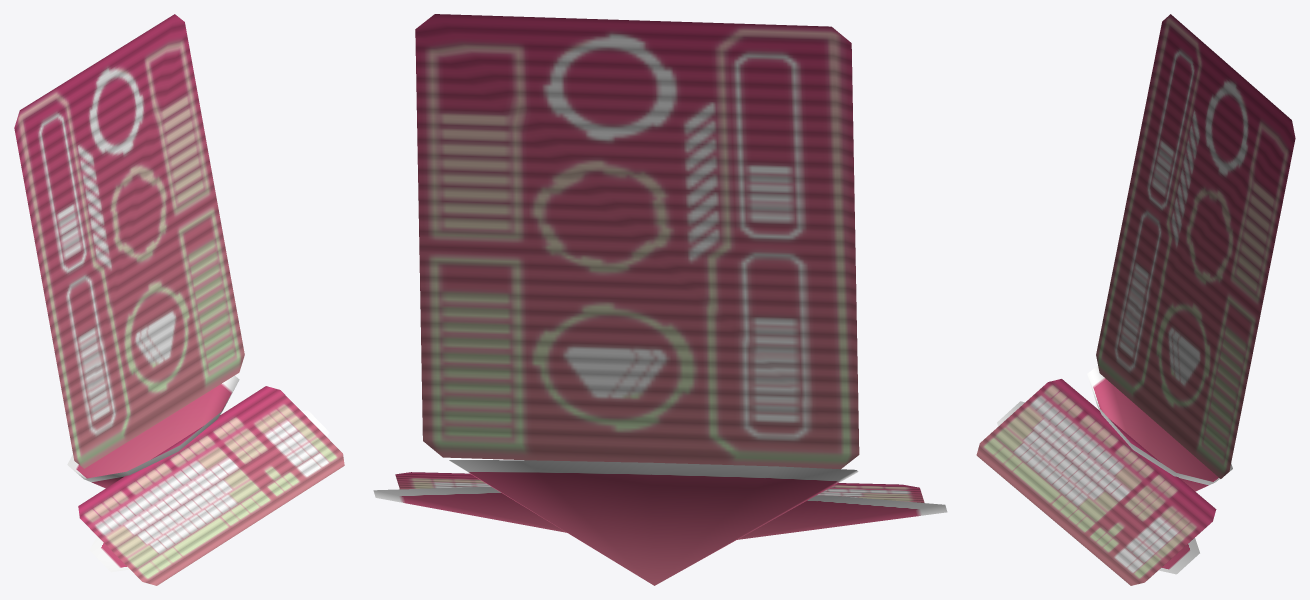
Rendered from Terminal_001_Monitor_002.fbx.
3 views of the same model, side by side, from view 1: azimuth 30°, elevation 25°; view 2: azimuth 150°, elevation 25°; view 3: azimuth 270°, elevation 25° (orthographic). The views are drawn at different scales.
Visible parts, largest first — view 1: Terminal_001_Monitor_002; view 2: Terminal_001_Monitor_002; view 3: Terminal_001_Monitor_002.
Part boxes in pixels (left/top/right/bottom): Terminal_001_Monitor_002: left=14, top=14, right=344, bottom=585; Terminal_001_Monitor_002: left=373, top=14, right=947, bottom=585; Terminal_001_Monitor_002: left=976, top=14, right=1295, bottom=585.
Size of the model in its own units: 66.21 by 56 by 83.78.
